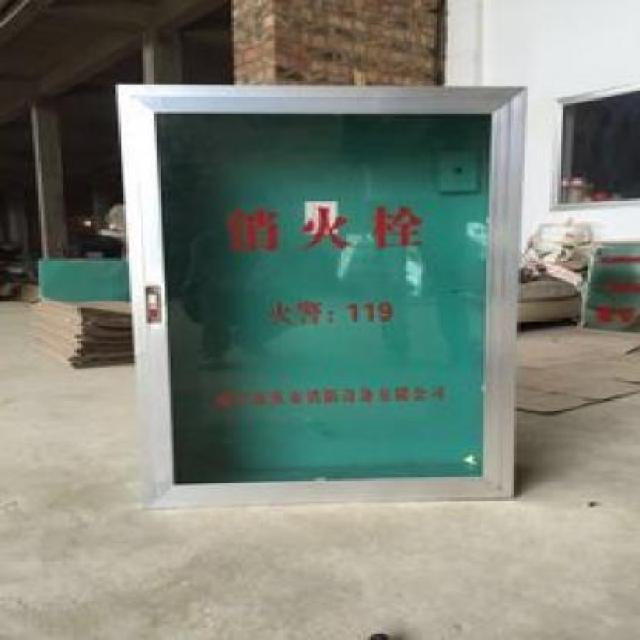firehydrant: (111, 79, 532, 512)
